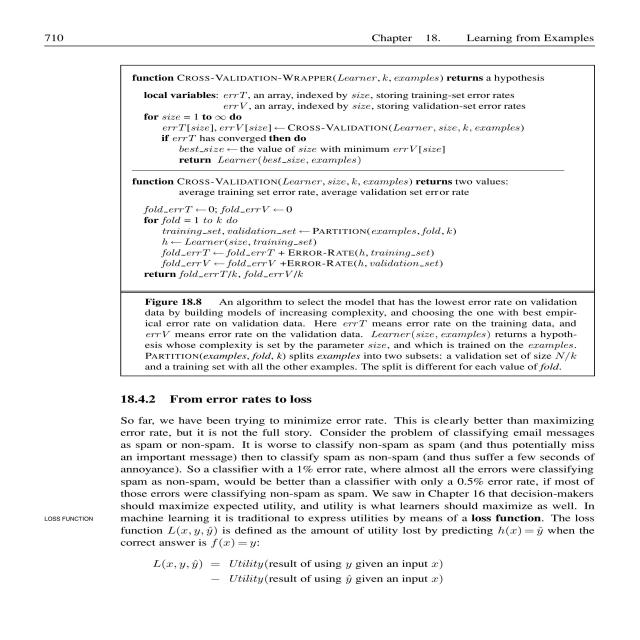diagram: (111, 61, 640, 380)
